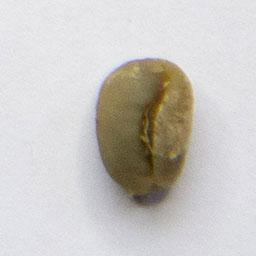peaberry: (91, 55, 197, 201)
